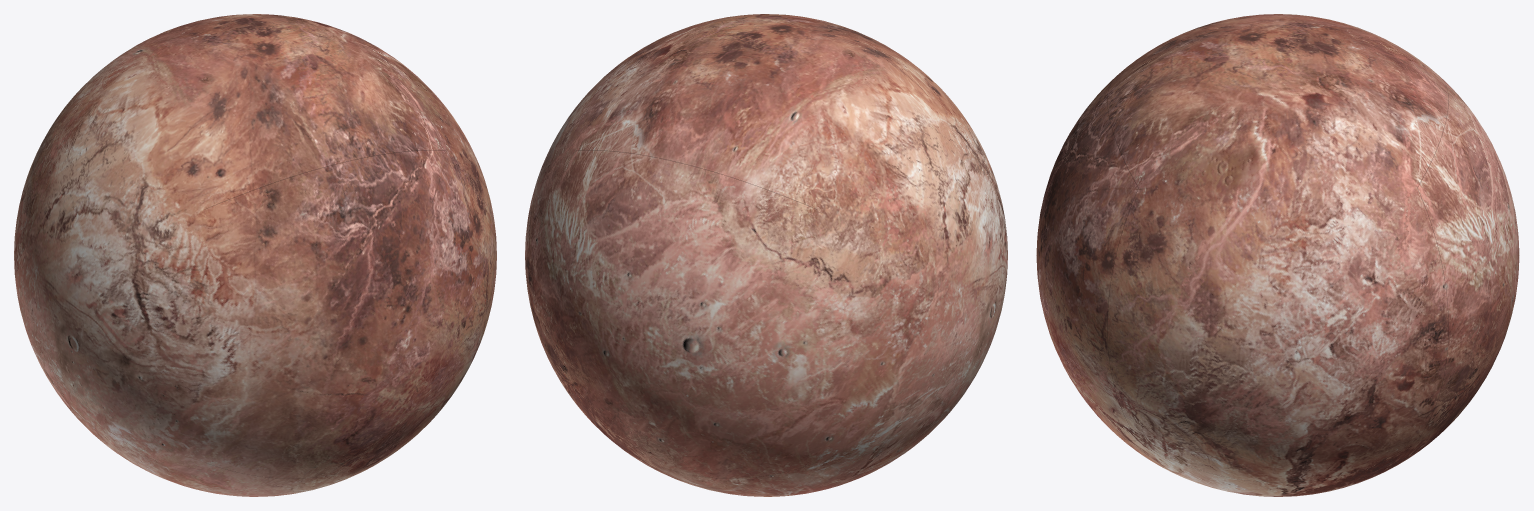
File: com.demensdeum.planet1.model.glb
3 renders of one model, left to right at view 1: azimuth 30°, elevation 25°; view 2: azimuth 150°, elevation 25°; view 3: azimuth 270°, elevation 25°, orthographic.
Visible parts, largest first — view 1: Phoenix_LOD0__0; view 2: Phoenix_LOD0__0; view 3: Phoenix_LOD0__0.
Part boxes in pixels (x1=…): Phoenix_LOD0__0: x1=14, y1=14, x2=496, y2=496; Phoenix_LOD0__0: x1=525, y1=14, x2=1007, y2=496; Phoenix_LOD0__0: x1=1036, y1=14, x2=1519, y2=496.
Bounding box in the file's own units: 1.33 × 1.33 × 1.33.
Materials: 1 (1 with a texture image).
